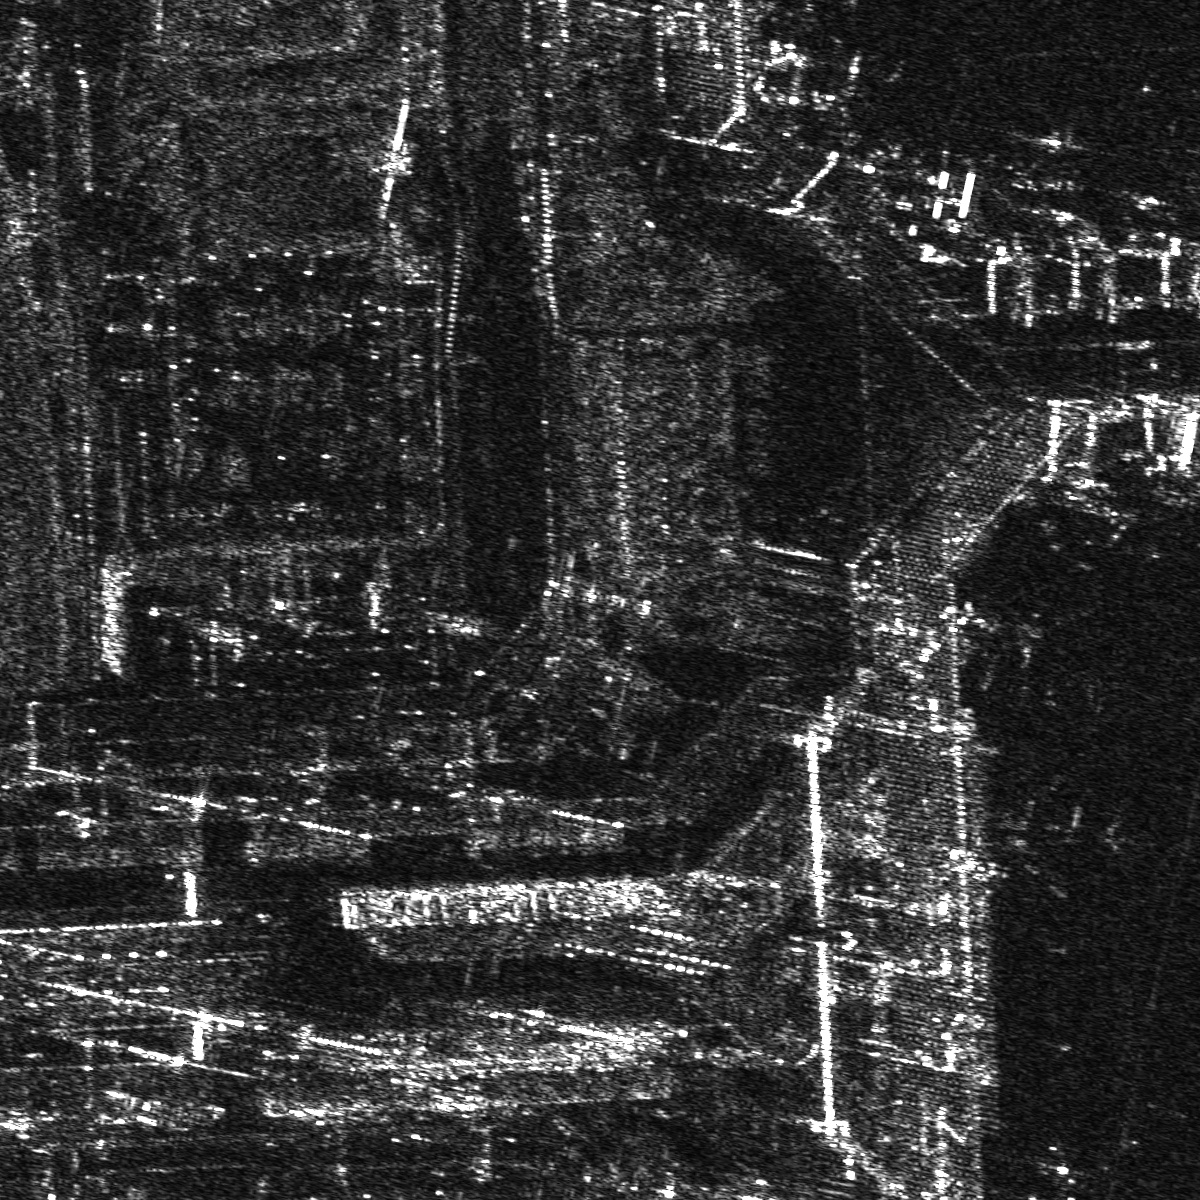A220: (985, 116, 1096, 205)
A320/321: (987, 774, 1125, 905)
